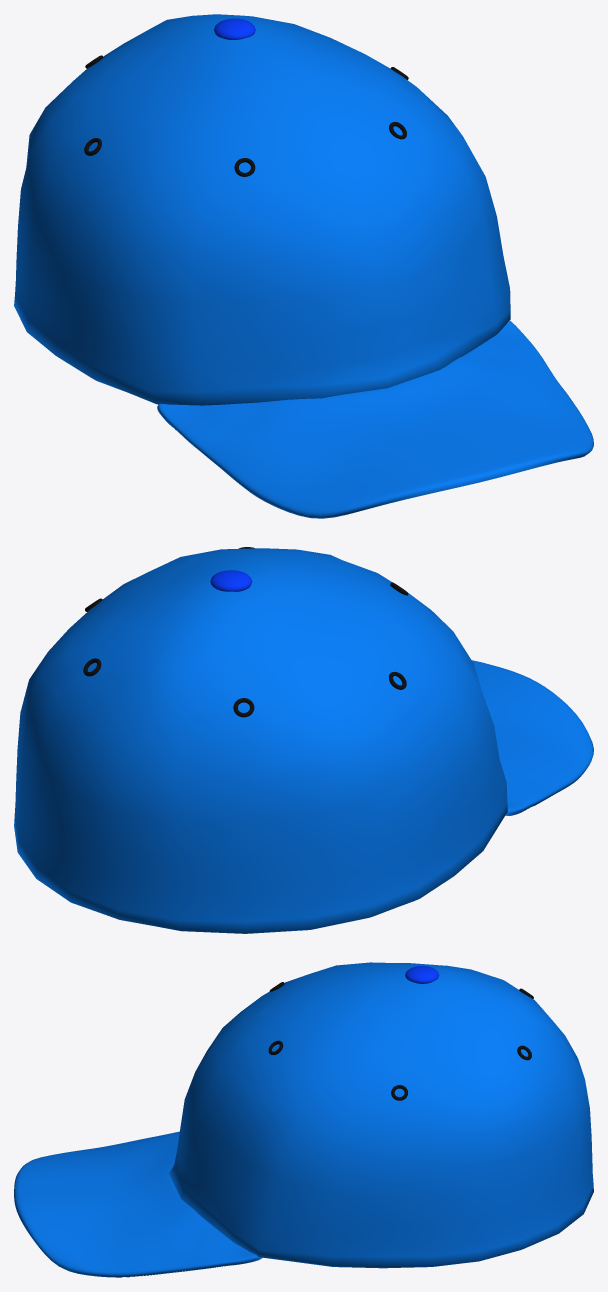
Rendered from cap.gltf.
3 renders of one model, top to bottom at view 1: azimuth 30°, elevation 25°; view 2: azimuth 150°, elevation 25°; view 3: azimuth 270°, elevation 25°, orthographic. The views are drawn at different scales.
Visible parts, largest first — view 1: Cap2, Brim2, eyelets2, button1; view 2: Cap2, Brim2, eyelets2, button1; view 3: Cap2, Brim2, eyelets2, button1.
Part boxes in pixels (x1=…): Cap2: x1=14, y1=14, x2=510, y2=405; Brim2: x1=157, y1=320, x2=593, y2=518; eyelets2: x1=84, y1=55, x2=408, y2=176; button1: x1=214, y1=18, x2=255, y2=39; Cap2: x1=14, y1=548, x2=507, y2=933; Brim2: x1=472, y1=660, x2=593, y2=815; eyelets2: x1=83, y1=547, x2=408, y2=717; button1: x1=210, y1=570, x2=252, y2=591; Cap2: x1=169, y1=962, x2=593, y2=1268; Brim2: x1=14, y1=1131, x2=262, y2=1277; eyelets2: x1=268, y1=982, x2=533, y2=1100; button1: x1=405, y1=966, x2=439, y2=983.
Bounding box in the file's own units: 20.92 × 15.2 × 32.3.
2 materials, 1 textured.
